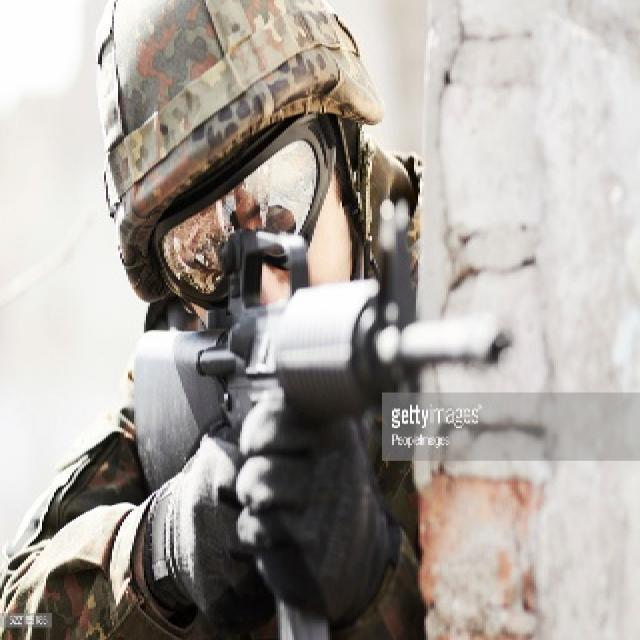weapon: (126, 220, 512, 495)
